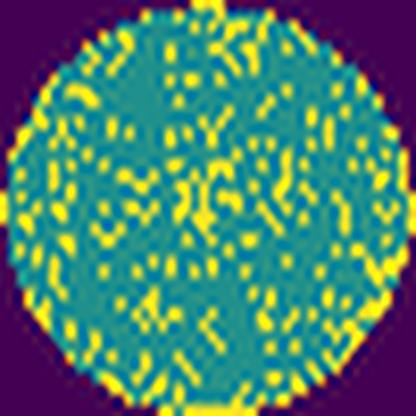Edge-Loc: (175, 377, 270, 415), (189, 0, 230, 34)
